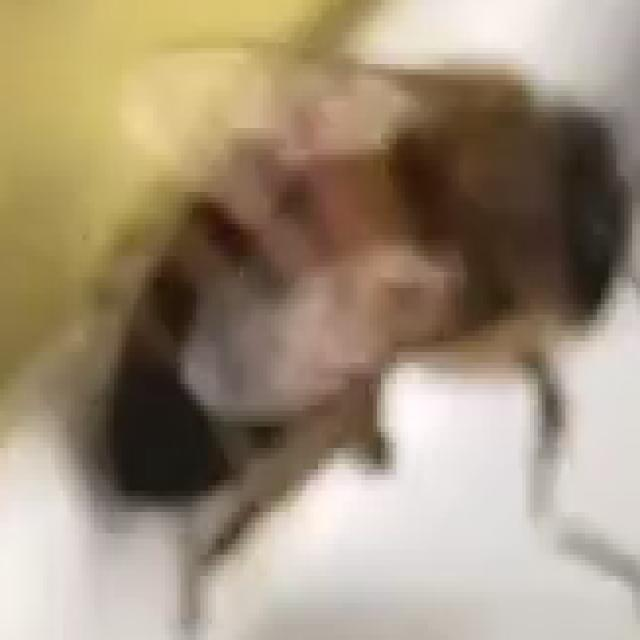honeybee: (82, 39, 640, 609)
